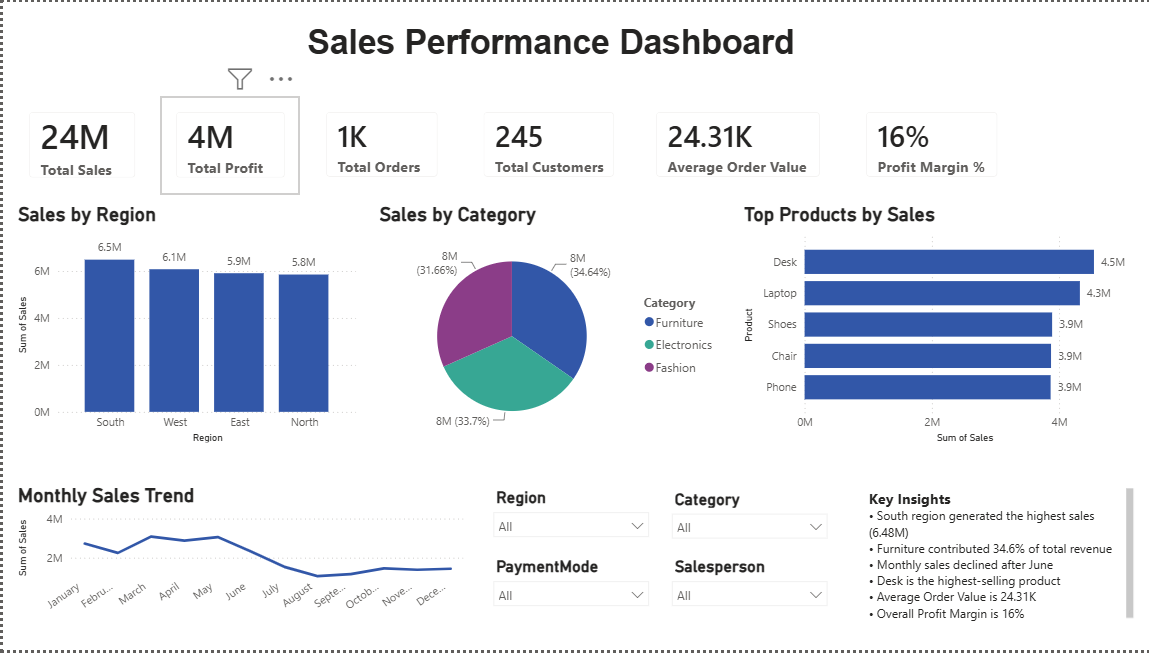

What the dashboard file says about the page in this screenshot:
{"tool":"powerbi","page":{"name":"Sales Performance Dashboard","canvas":[1280,720],"ordinal":0},"visuals":[{"type":"textbox","box":[277.5,0,664.3,91.1],"z":0},{"type":"cardVisual","fields":{"Data":["Sum(SalesData.Sales)"]},"box":[11.6,104.8,152.8,107.7],"z":1000},{"type":"cardVisual","fields":{"Data":["Sum(SalesData.Profit)"]},"box":[174.7,104.8,155.7,107.7],"z":2000},{"type":"cardVisual","fields":{"Data":["CountNonNull(SalesData.OrderID)"]},"box":[342.1,104.8,158.7,106.3],"z":3000},{"type":"cardVisual","fields":{"Data":["Count(SalesData.CustomerName)"]},"box":[516.7,104.8,179,106.3],"z":4000},{"type":"clusteredColumnChart","title":"Sales by Region","fields":{"Category":["SalesData.Region"],"Y":["Sum(SalesData.Sales)"]},"box":[11.6,224.2,385.7,270.7],"z":5000},{"type":"pieChart","title":"Sales by Category","fields":{"Category":["SalesData.Category"],"Y":["Sum(SalesData.Sales)"]},"box":[413.4,224.2,388.6,270.7],"z":6000},{"type":"lineChart","title":"Monthly Sales Trend","fields":{"Category":["SalesData.OrderDate.Variation.Date Hierarchy.Month"],"Y":["Sum(SalesData.Sales)"]},"box":[11.6,534.2,505.1,152.8],"z":7000},{"type":"clusteredBarChart","title":"Top Products by Sales","fields":{"Category":["SalesData.Product"],"Y":["Sum(SalesData.Sales)"]},"box":[818,224.2,442.5,270.7],"z":8000},{"type":"slicer","fields":{"Values":["SalesData.Region"]},"box":[534.7,534.7,192.4,66.8],"z":9000},{"type":"slicer","fields":{"Values":["SalesData.Category"]},"box":[733.2,536.7,192.4,66.8],"z":10000},{"type":"slicer","fields":{"Values":["SalesData.PaymentMode"]},"box":[534.7,611.6,192.4,74.9],"z":11000},{"type":"slicer","fields":{"Values":["SalesData.Salesperson"]},"box":[733.2,611.6,192.4,74.9],"z":12000},{"type":"cardVisual","fields":{"Data":["SalesData.Average Order Value"]},"box":[708.9,104.8,216.9,106.3],"z":13000},{"type":"cardVisual","fields":{"Data":["SalesData.Profit Margin %"]},"box":[941.7,104.8,180.5,106.3],"z":14000},{"type":"textbox","box":[956.3,534.2,304.2,164.5],"z":15000}]}

Visuals, with their boxes in screenshot pixels (x1, y1, x2, y2), scaled from the page's 1280x720 canvas onto the 1153x654 screenshot:
textbox: [left=250, top=0, right=848, bottom=83]
cardVisual - Sum(SalesData.Sales): [left=10, top=95, right=148, bottom=193]
cardVisual - Sum(SalesData.Profit): [left=157, top=95, right=298, bottom=193]
cardVisual - CountNonNull(SalesData.OrderID): [left=308, top=95, right=451, bottom=192]
cardVisual - Count(SalesData.CustomerName): [left=465, top=95, right=627, bottom=192]
"Sales by Region" clusteredColumnChart: [left=10, top=204, right=358, bottom=450]
"Sales by Category" pieChart: [left=372, top=204, right=722, bottom=450]
"Monthly Sales Trend" lineChart: [left=10, top=485, right=465, bottom=624]
"Top Products by Sales" clusteredBarChart: [left=737, top=204, right=1135, bottom=450]
slicer - SalesData.Region: [left=482, top=486, right=655, bottom=546]
slicer - SalesData.Category: [left=660, top=488, right=834, bottom=548]
slicer - SalesData.PaymentMode: [left=482, top=556, right=655, bottom=624]
slicer - SalesData.Salesperson: [left=660, top=556, right=834, bottom=624]
cardVisual - SalesData.Average Order Value: [left=639, top=95, right=834, bottom=192]
cardVisual - SalesData.Profit Margin %: [left=848, top=95, right=1011, bottom=192]
textbox: [left=861, top=485, right=1135, bottom=635]
